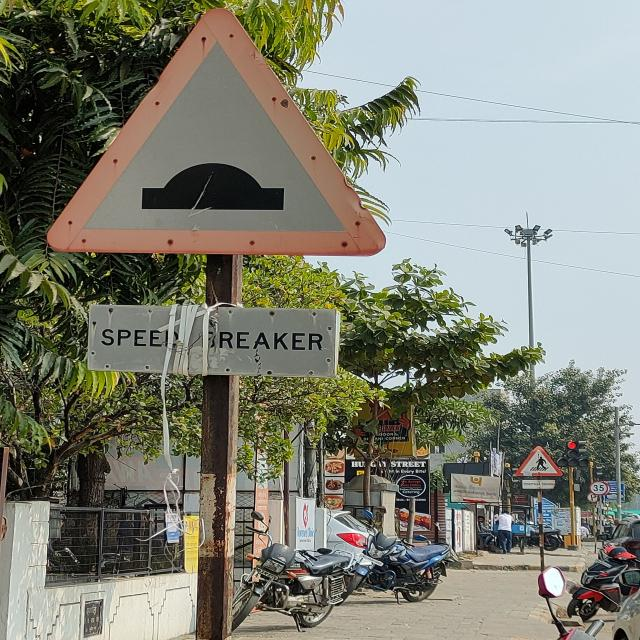HUMP_OR_ROUGH_ROAD: (48, 9, 387, 258)
